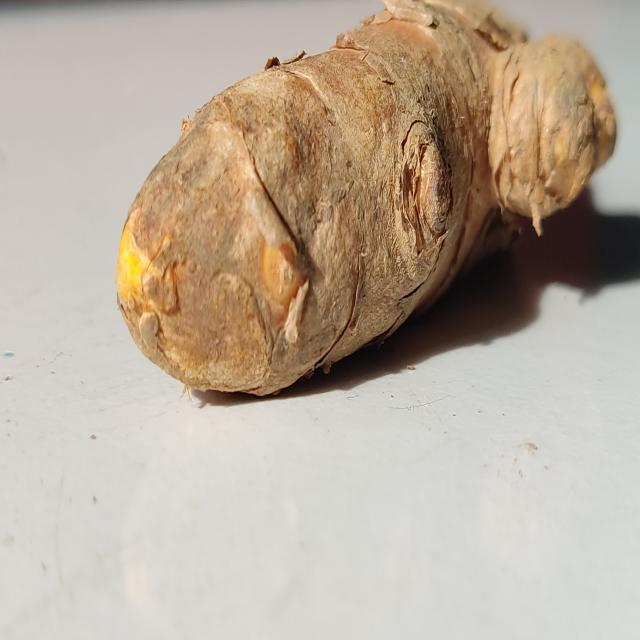ginger: (126, 13, 618, 380)
